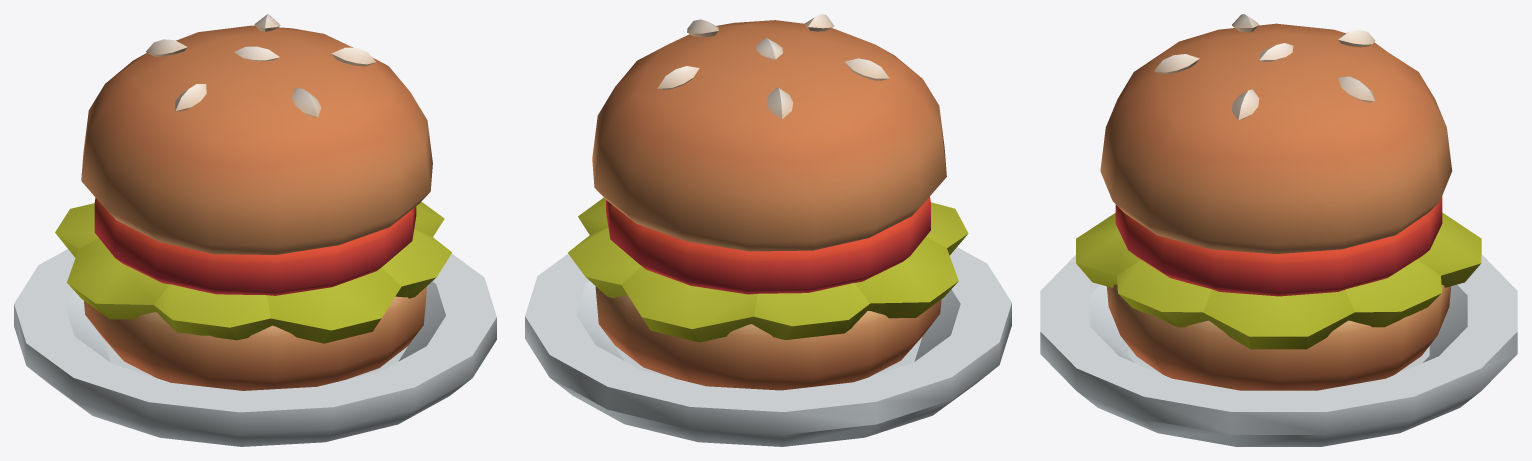
Rendered from plate_bun_lettuce_tomato.glb.
The picture shows the model from 3 angles, left to right: view 1: azimuth 30°, elevation 25°; view 2: azimuth 150°, elevation 25°; view 3: azimuth 270°, elevation 25°; orthographic projection.
Parts seen in each view (by area): view 1: plate; view 2: plate; view 3: plate.
Part boxes in pixels (<box>): plate: <box>14,14,496,446</box>; plate: <box>525,14,1011,446</box>; plate: <box>1040,14,1517,446</box>.
Size of the model in its own units: 0.95 by 0.6845 by 0.95.
5 materials, 5 textured.
